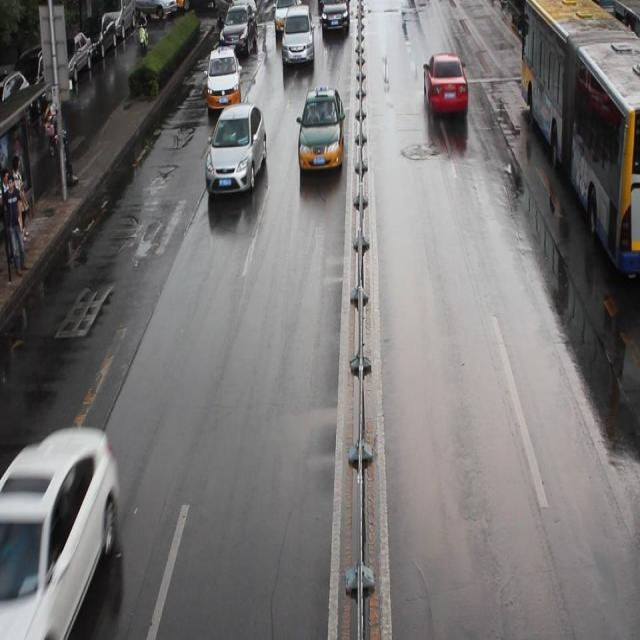car: (0, 425, 120, 640), (204, 103, 266, 196), (297, 90, 343, 171), (422, 52, 467, 116), (204, 48, 242, 110), (217, 1, 257, 54), (321, 1, 349, 31), (272, 1, 300, 30), (212, 1, 258, 17)
truck: (281, 1, 314, 64)
van: (520, 1, 640, 270)
